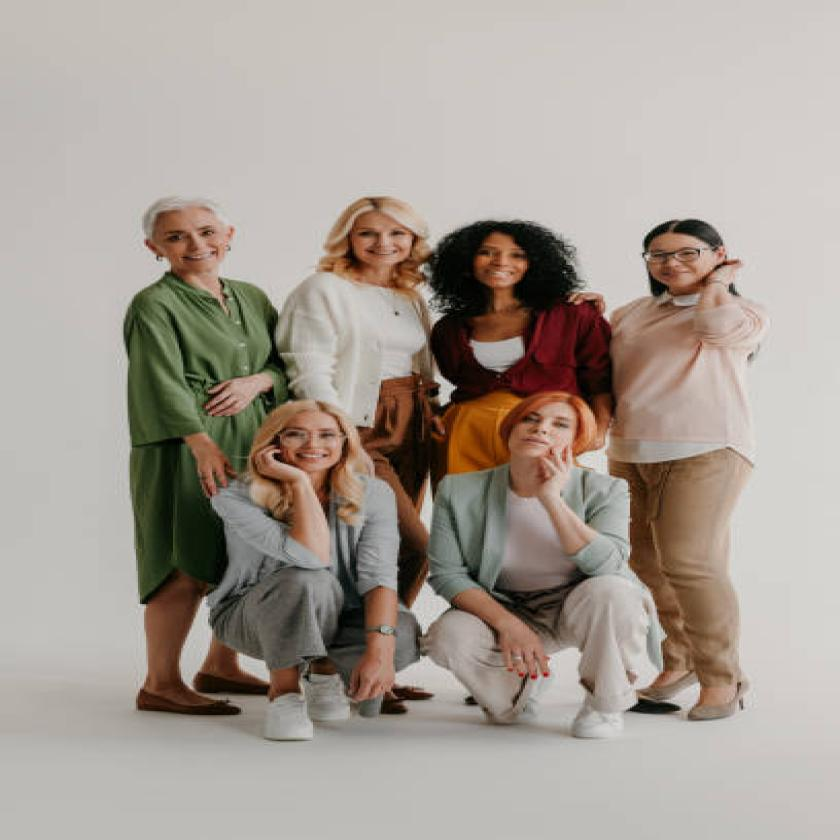Sin_casco: (443, 208, 580, 329), (324, 177, 443, 302), (630, 188, 742, 304), (251, 393, 384, 484), (130, 188, 255, 278), (498, 386, 600, 489)
